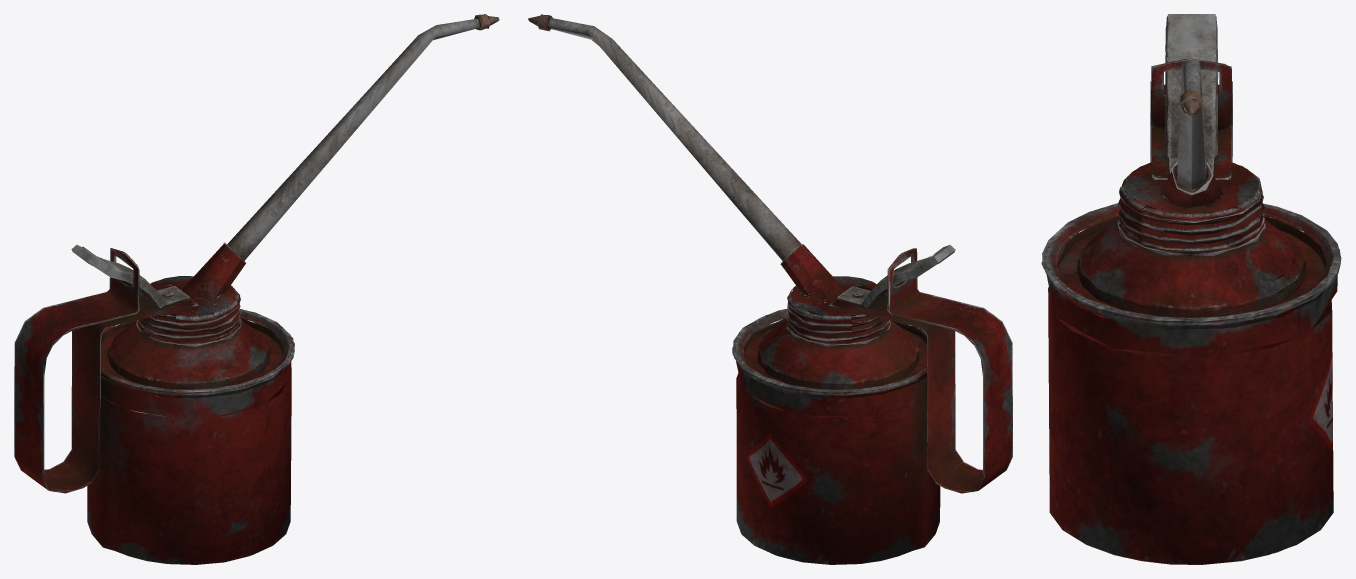
The model's file is small_oil_can_01.glb.
3 views of the same model, side by side, from view 1: azimuth 30°, elevation 25°; view 2: azimuth 150°, elevation 25°; view 3: azimuth 270°, elevation 25° (orthographic). The views are drawn at different scales.
Visible parts, largest first — view 1: small_oil_can_01; view 2: small_oil_can_01; view 3: small_oil_can_01.
Part boxes in pixels (x1,y1,x2,y2): small_oil_can_01: [14, 14, 499, 564]; small_oil_can_01: [528, 14, 1012, 564]; small_oil_can_01: [1041, 14, 1341, 564].
Size of the model in its own units: 0.2661 by 0.2381 by 0.1043.
1 material, 1 textured.
